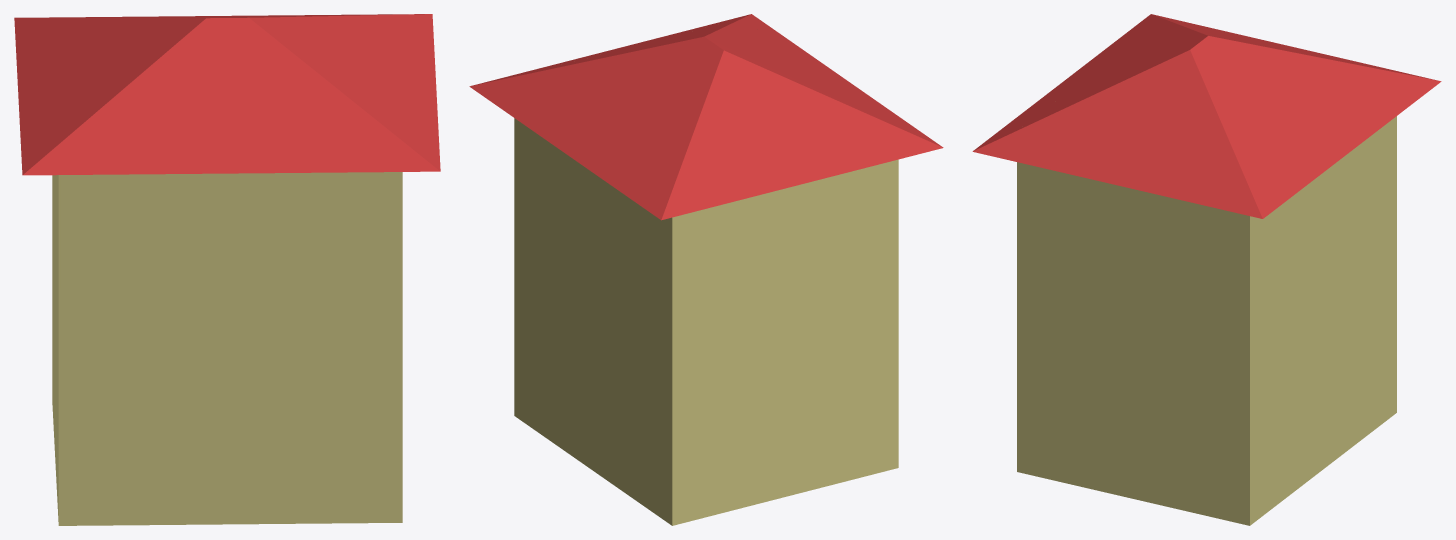
3 renders of one model, left to right at view 1: azimuth 30°, elevation 25°; view 2: azimuth 150°, elevation 25°; view 3: azimuth 270°, elevation 25°, orthographic. The views are drawn at different scales.
Parts seen in each view (by area): view 1: group_5, group_3, group_4; view 2: group_5, group_3, group_4; view 3: group_5, group_3, group_4.
Boxes of the visible parts, x1,y1,x2,y2 form: group_5: [52, 172, 402, 525]; group_3: [23, 14, 440, 175]; group_4: [14, 14, 440, 174]; group_5: [514, 118, 898, 525]; group_3: [469, 15, 942, 219]; group_4: [471, 14, 943, 220]; group_5: [1017, 116, 1396, 525]; group_3: [973, 14, 1441, 218]; group_4: [972, 14, 1437, 218].
Size of the model in its own units: 14.74 by 14.26 by 13.32.
